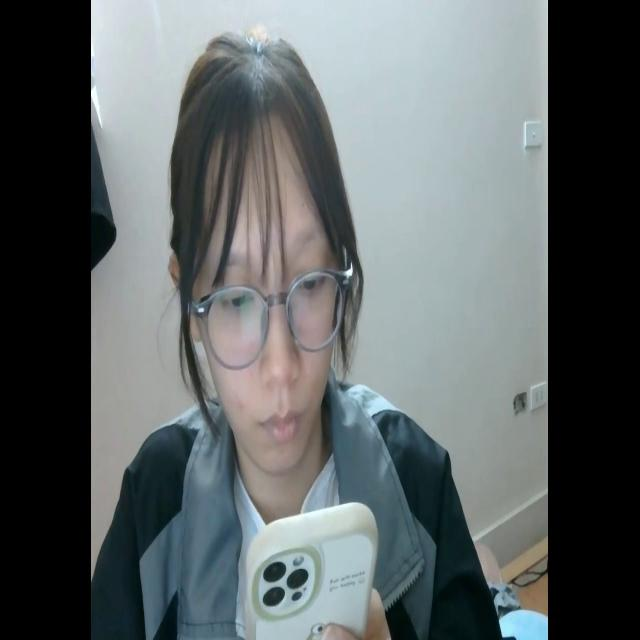phone: (236, 490, 380, 640)
student: (91, 28, 495, 640)
